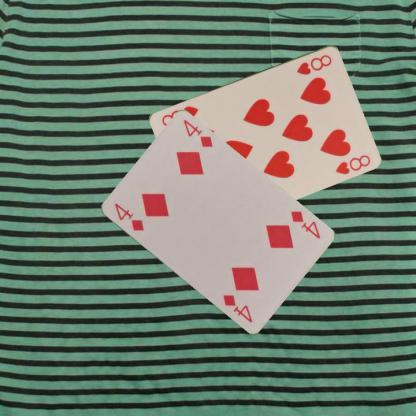4d: (287, 208, 321, 240), (112, 200, 145, 232)
8h: (294, 52, 333, 76)
